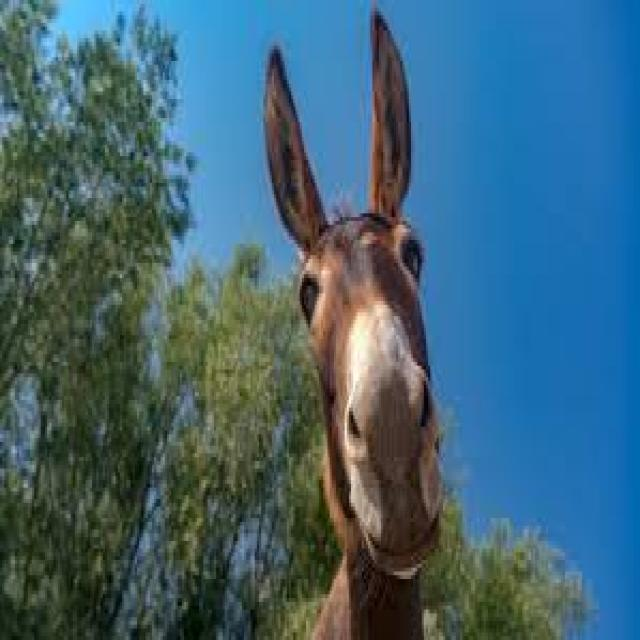Donkey: (247, 2, 495, 640)
